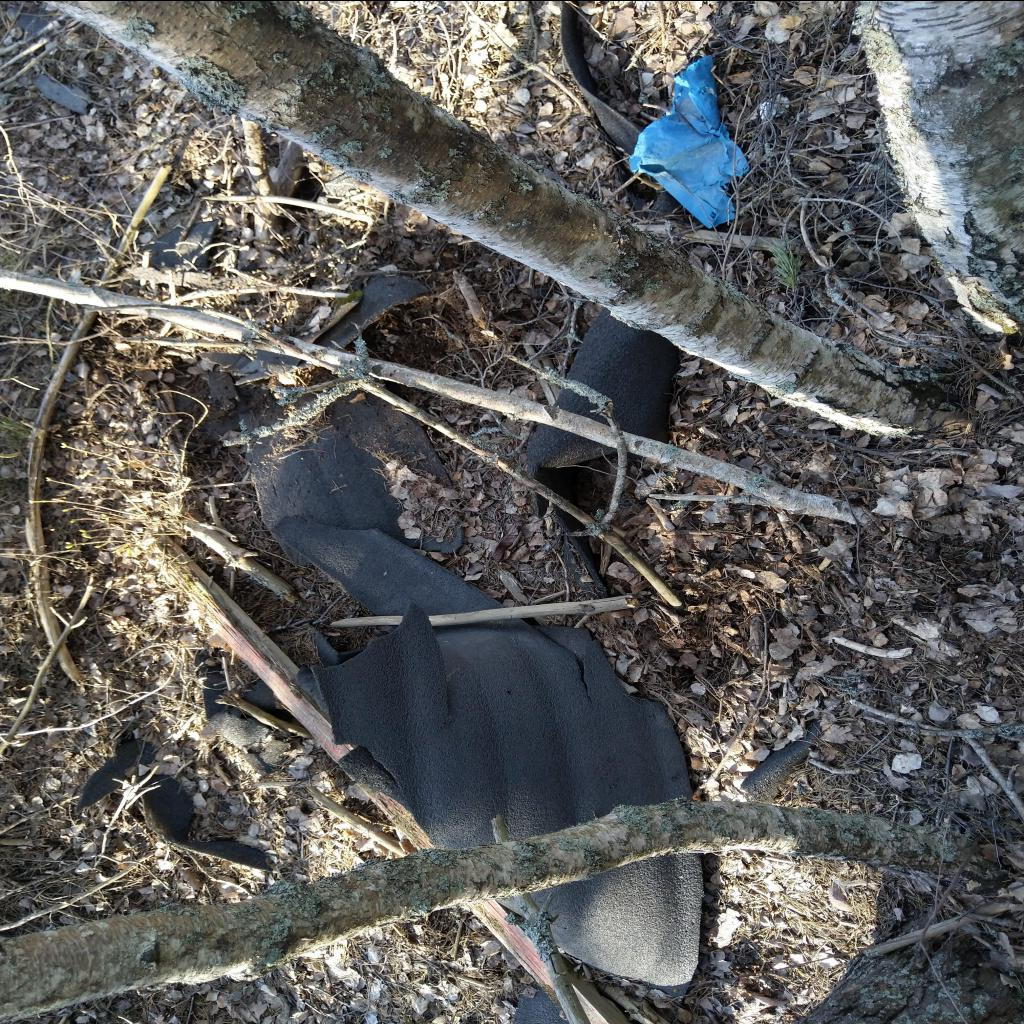Other plastic wrapper: (245, 388, 703, 1000), (525, 0, 687, 598), (73, 736, 273, 870), (194, 650, 292, 774), (740, 716, 821, 802), (140, 220, 217, 267), (513, 982, 570, 1023)
Plastic film: (629, 54, 749, 228)
Styrofoam piece: (760, 92, 792, 120)
